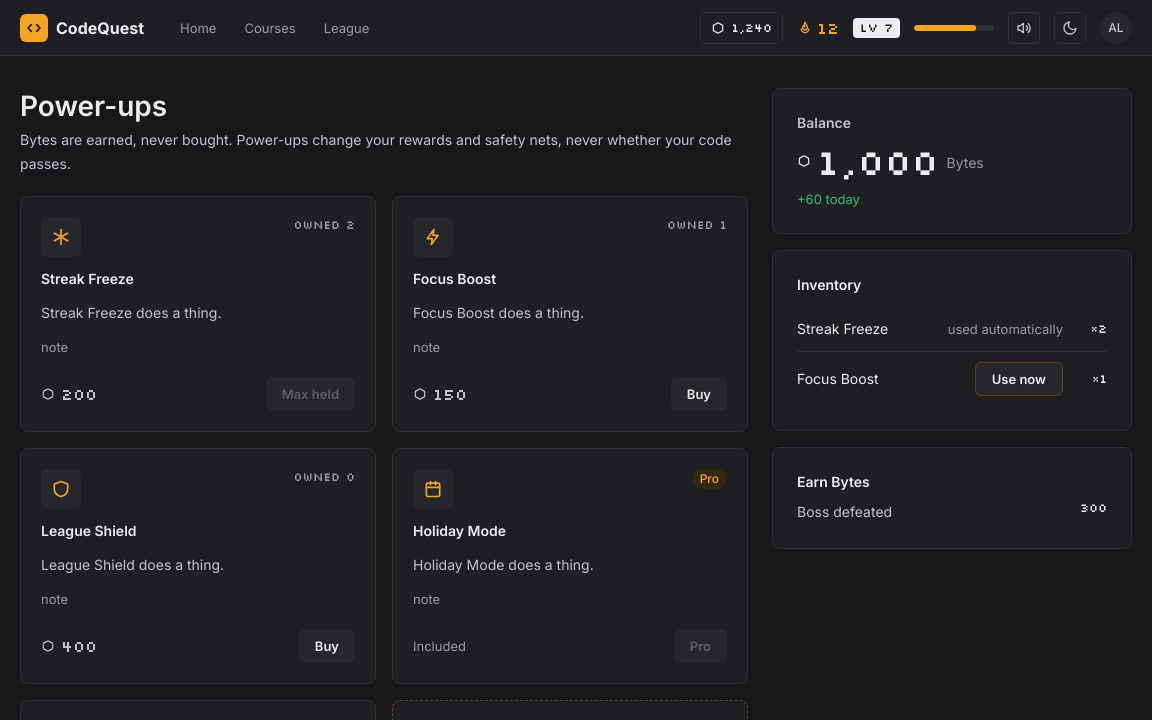
ShopPage › shows why a buy was refused
Click the button "Buy" in the row of "400": (327,646) [299,629,355,663]
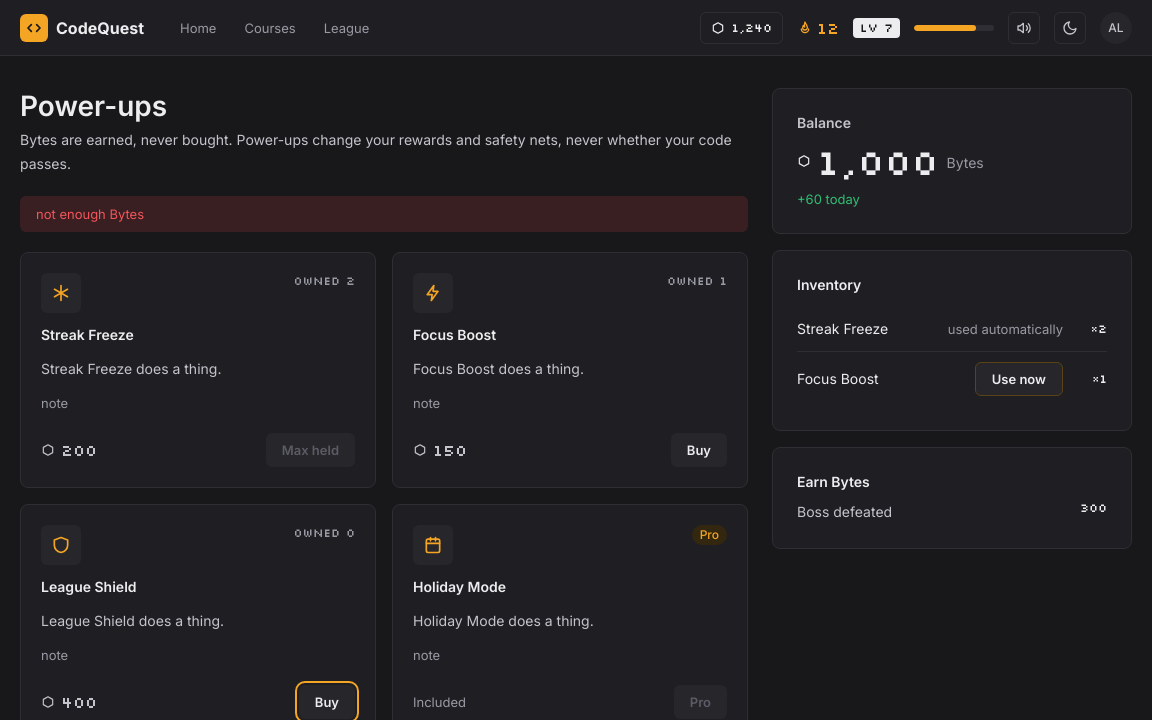
Check: the message reads "not enough Bytes", box [36,206,144,222]
